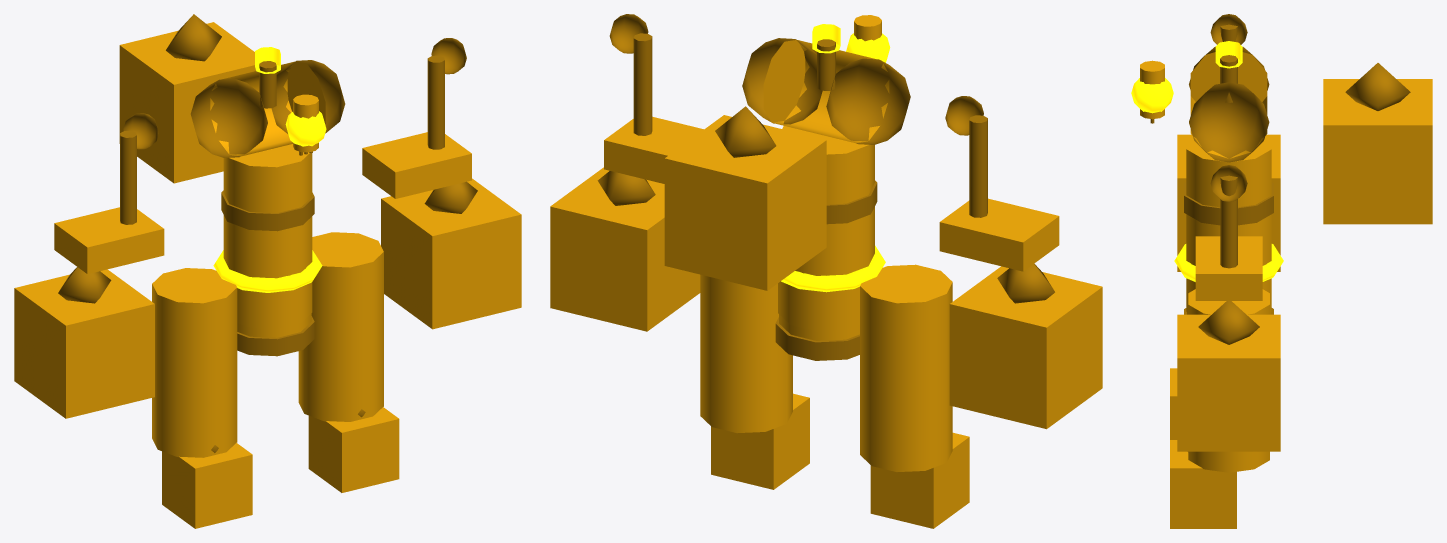
File: golem_079.glb
3 views of the same model, side by side, from view 1: azimuth 30°, elevation 25°; view 2: azimuth 150°, elevation 25°; view 3: azimuth 270°, elevation 25° (orthographic). The views are drawn at different scales.
Visible parts, largest first — view 1: Body, Detail, Glow; view 2: Body, Detail, Glow; view 3: Body, Detail, Glow.
Part boxes in pixels (x1,y1,x2,y2): Body: (14, 22, 521, 528); Detail: (58, 14, 477, 452); Glow: (213, 47, 326, 292); Body: (550, 15, 1102, 528); Detail: (597, 14, 1054, 360); Glow: (781, 24, 890, 292); Body: (1140, 52, 1432, 528); Detail: (1150, 14, 1410, 344); Glow: (1131, 41, 1283, 281).
Size of the model in its own units: 1.26 by 1.13 by 0.7157.
